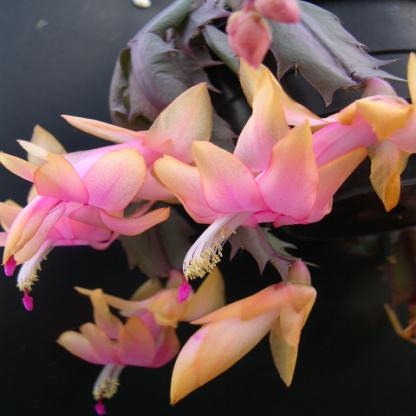Aglonema: (52, 133, 404, 324)
